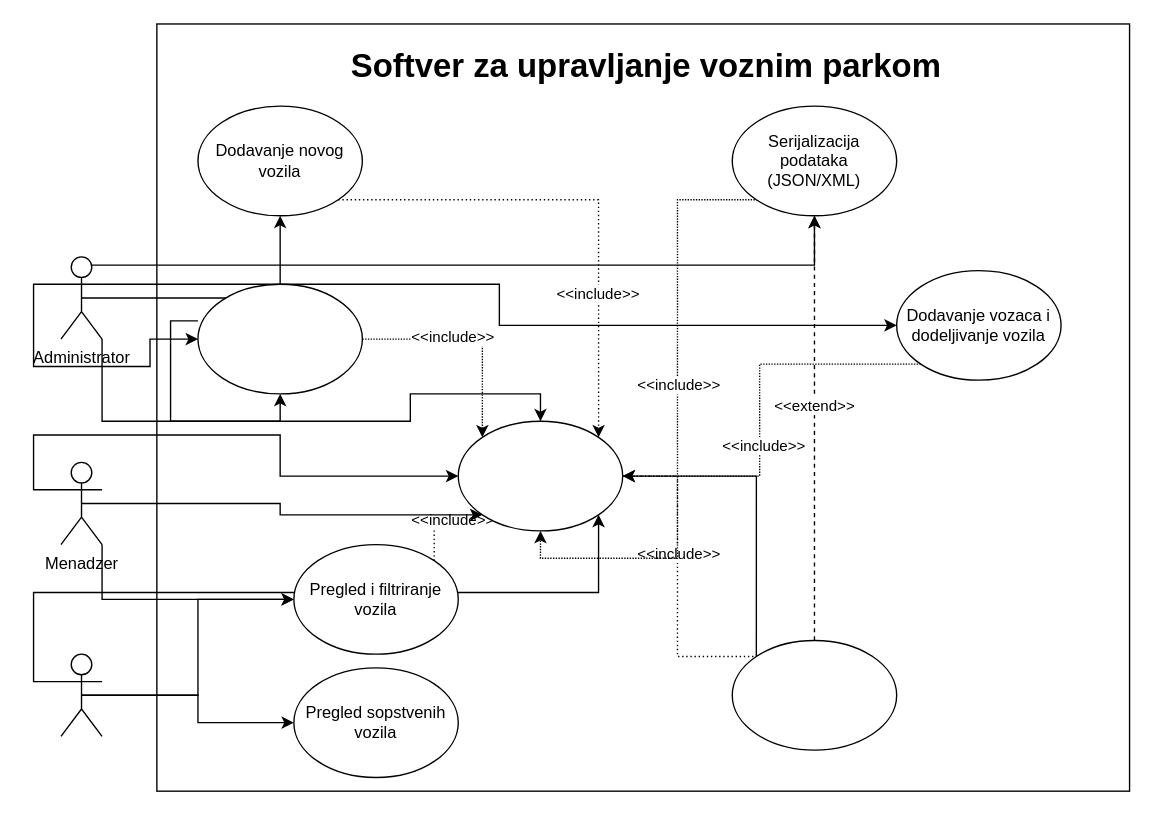
Some shapes in this 1154 by 815 pixel diagram are drawn without their labels. Each missing label, with the centre of its shape:
Autentifikacija: point 540,475
Generisanje izvestaja: point 814,694
Izmena i brisanje vozila: point 279,338
Vozac: point 81,694
